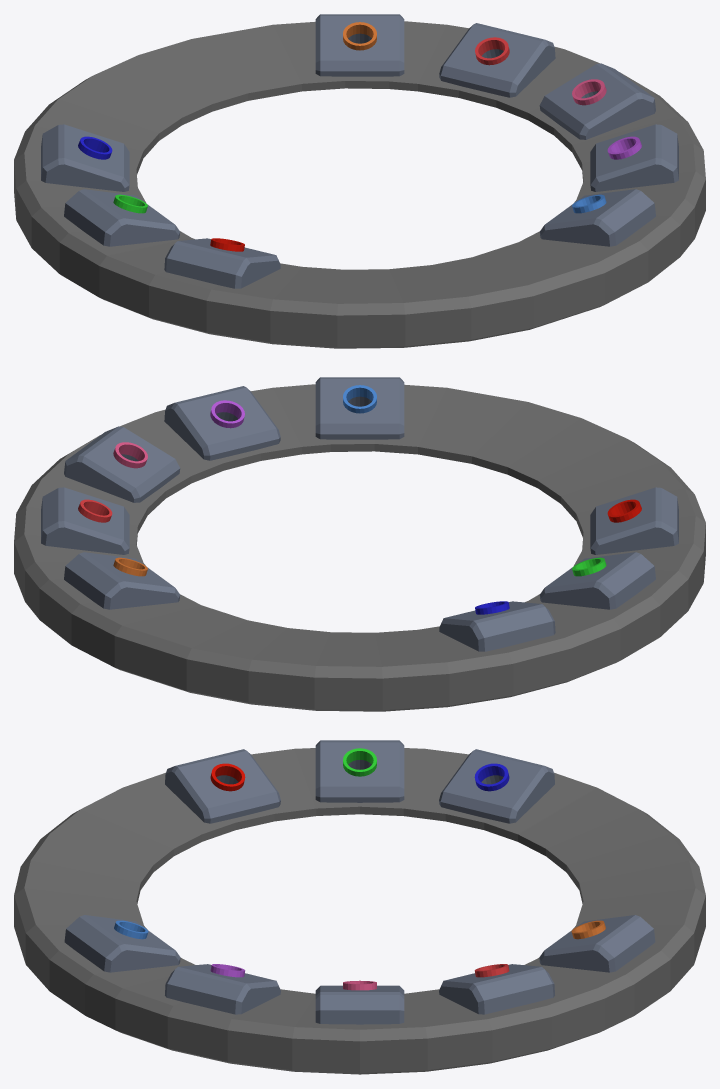
Rendered from Body.fbx.
3 renders of one model, top to bottom at view 1: azimuth 30°, elevation 25°; view 2: azimuth 150°, elevation 25°; view 3: azimuth 270°, elevation 25°, orthographic.
Visible parts, largest first — view 1: Cylinder; view 2: Cylinder; view 3: Cylinder.
Boxes of the visible parts, box(x1,y1,x2,y2) form: Cylinder: box(14, 14, 705, 348); Cylinder: box(14, 377, 705, 711); Cylinder: box(14, 740, 705, 1074).
Size of the model in its own units: 1566 by 1566 by 162.
